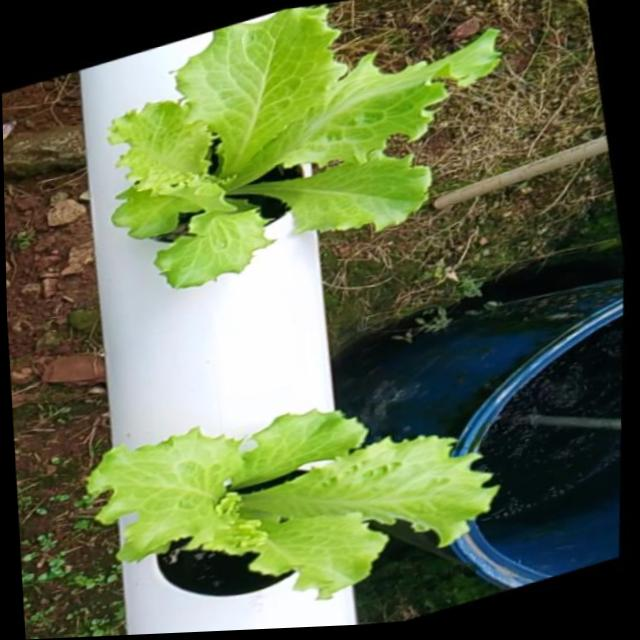Baby: (108, 17, 502, 300), (97, 422, 514, 613)
